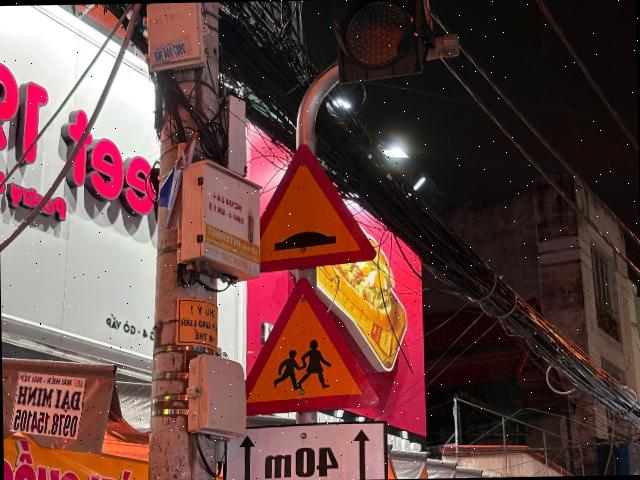duong-co-go-giam-toc: (258, 144, 376, 274)
tre-em-qua-duong: (244, 275, 381, 417)
